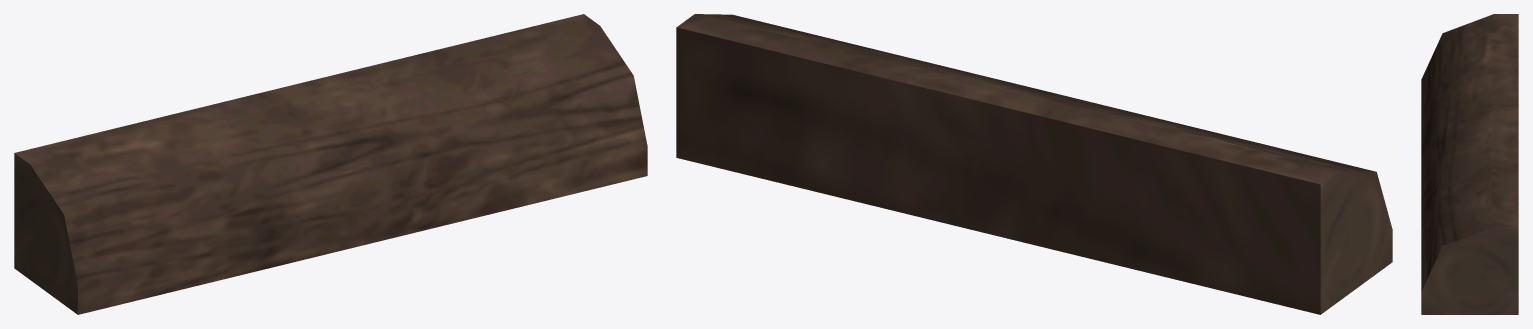
Rendered from WoodLog.fbx.
3 renders of one model, left to right at view 1: azimuth 30°, elevation 25°; view 2: azimuth 150°, elevation 25°; view 3: azimuth 270°, elevation 25°, orthographic. The views are drawn at different scales.
Visible parts, largest first — view 1: Cube.034; view 2: Cube.034; view 3: Cube.034.
Part boxes in pixels (x1,y1,x2,y2): Cube.034: (14,14,647,314); Cube.034: (676,14,1392,314); Cube.034: (1421,14,1518,314).
Size of the model in its own units: 1.43 by 0.277 by 0.277.
